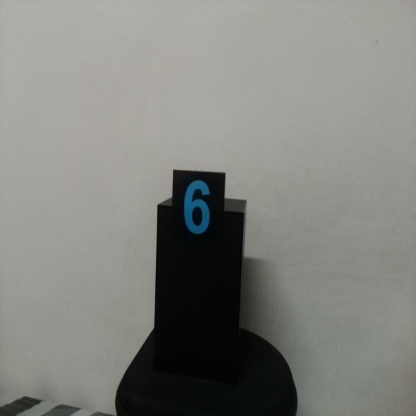id_6: (171, 172, 224, 249)
